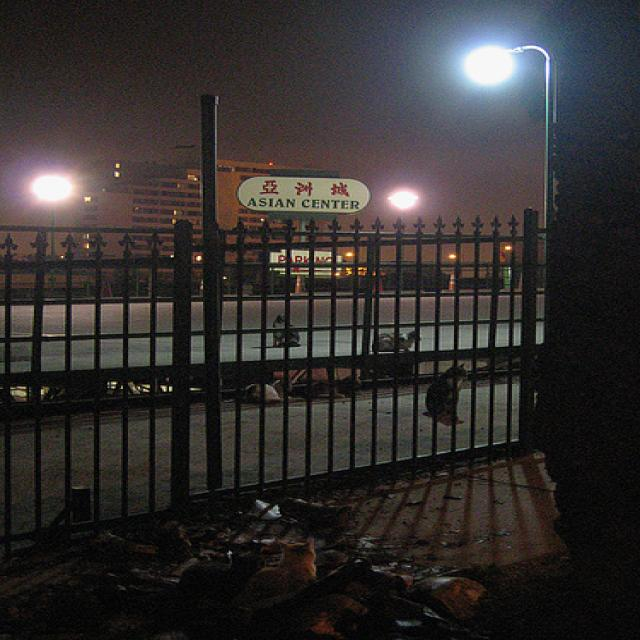Cat: (436, 341, 497, 460), (244, 303, 328, 376), (359, 309, 448, 367)
